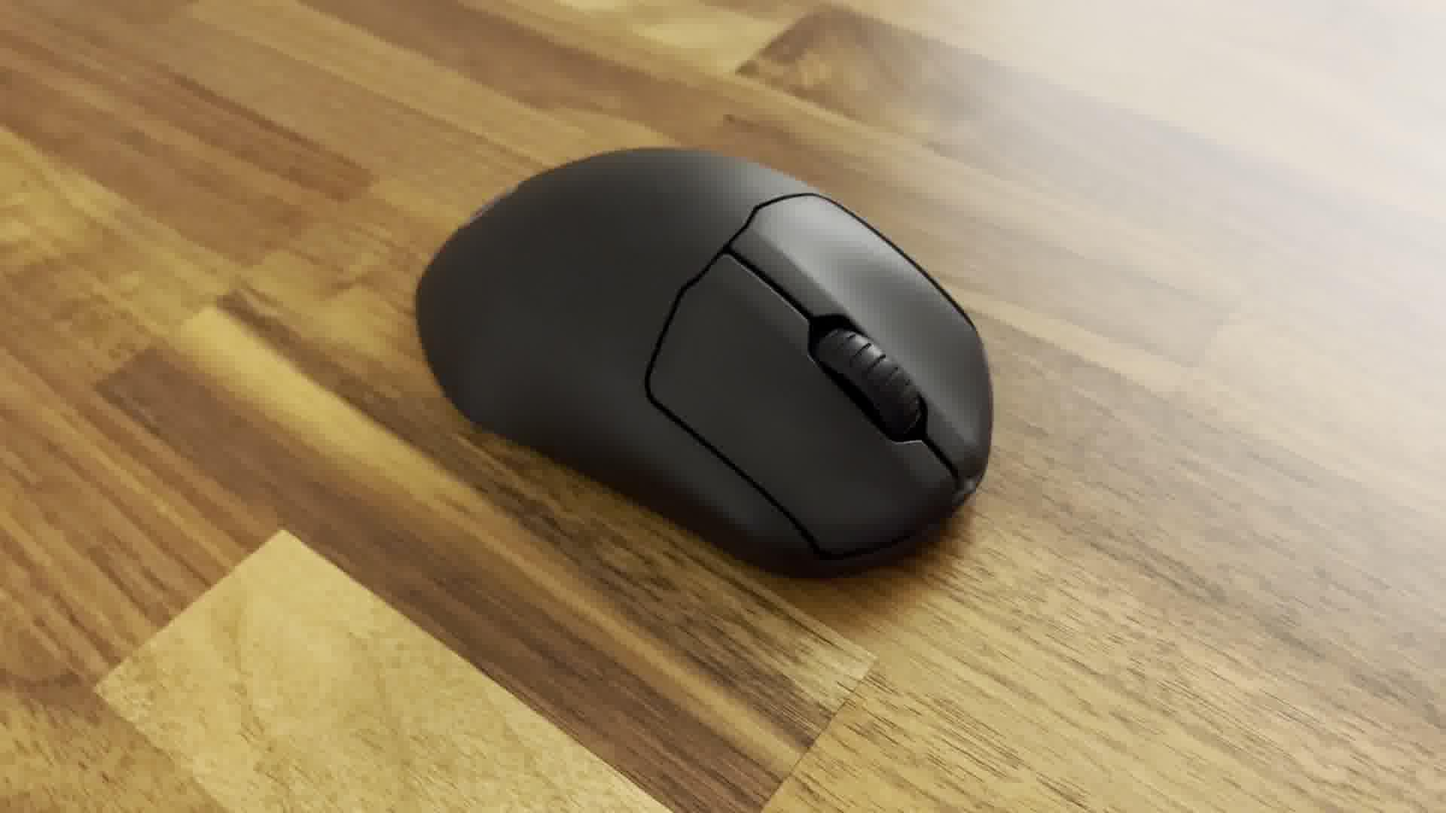mouse: (410, 140, 1000, 591)
